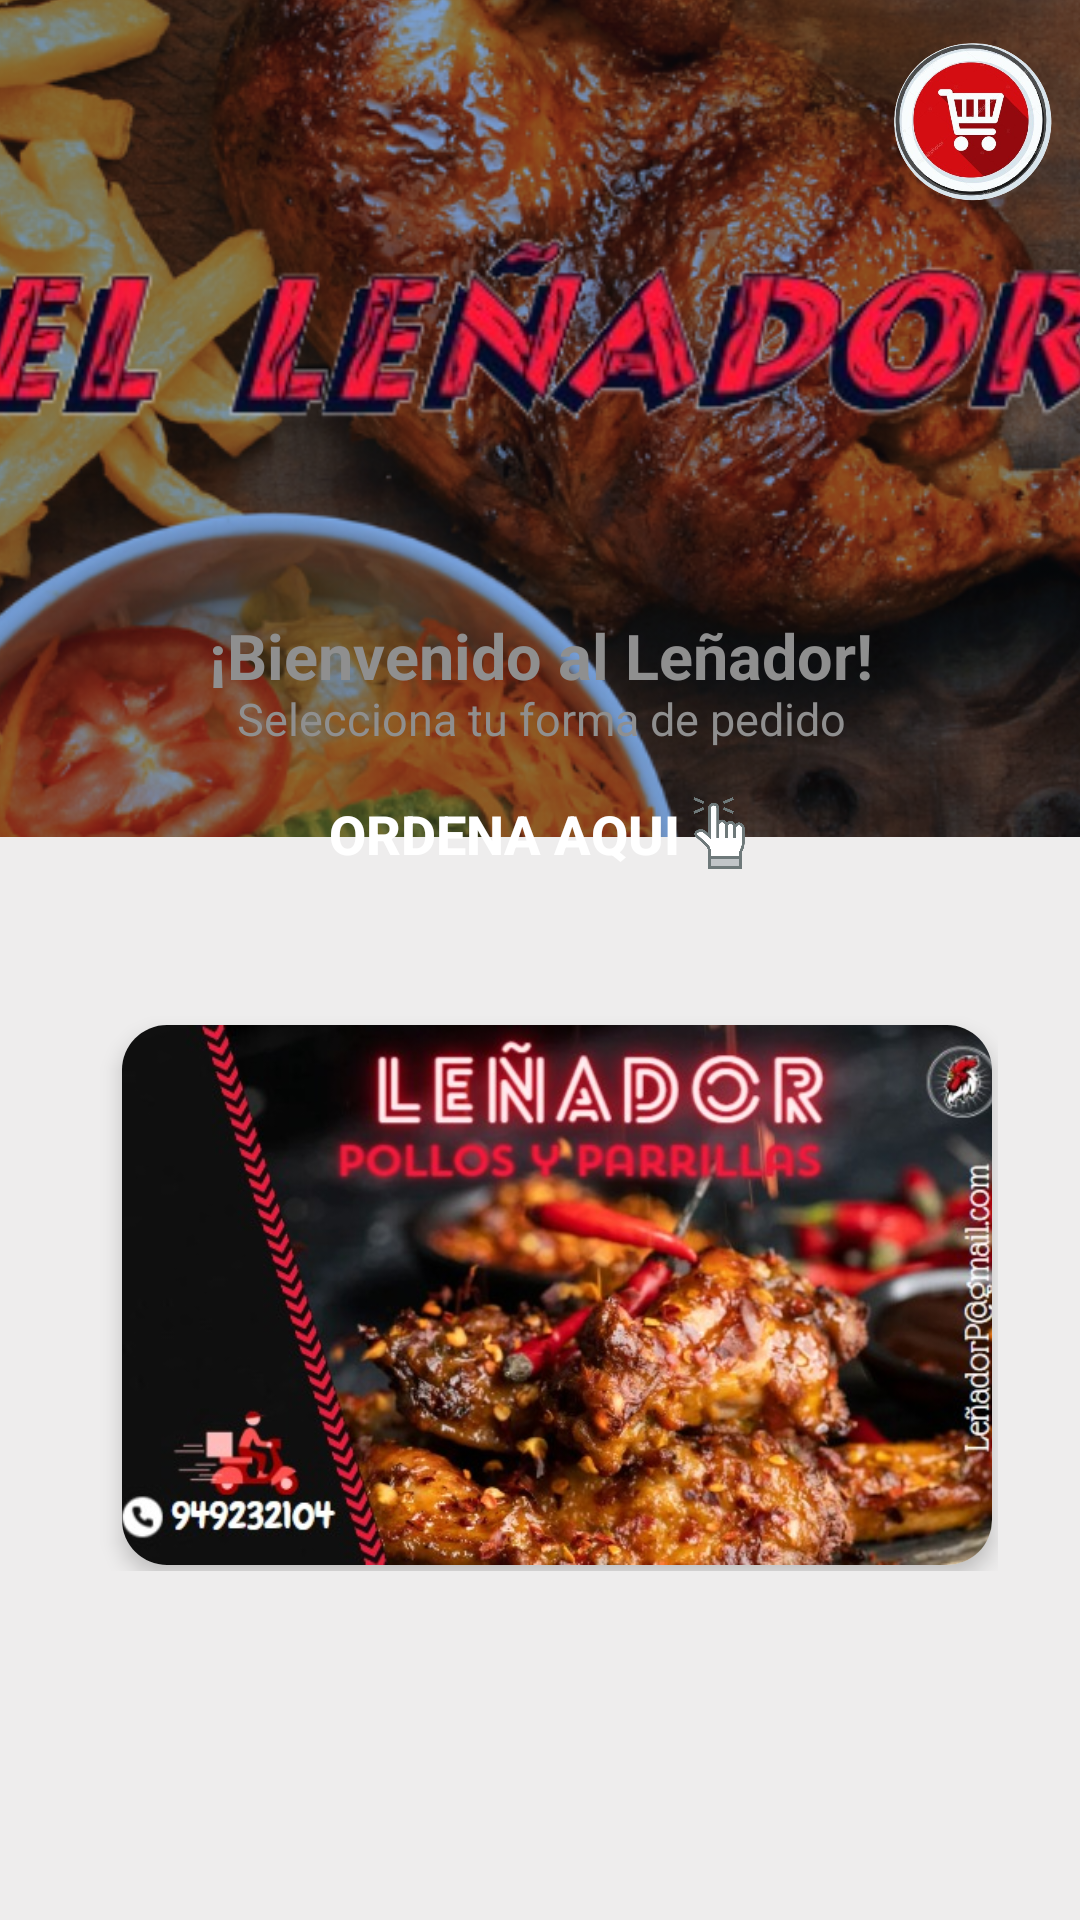

Where to tap for icons on this 1080 × 1920 app screen, as (x=x, y=y):
custom carrito: (x=970, y=122)
